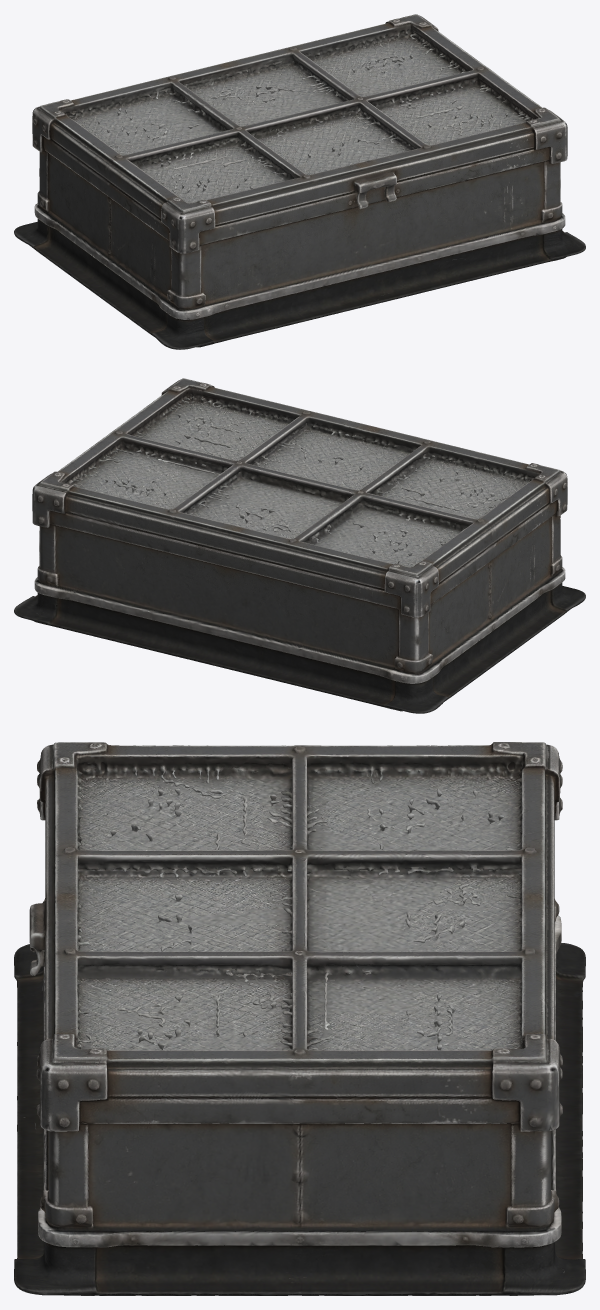
File: industrial_rooftop_skylight.glb
3 renders of one model, top to bottom at view 1: azimuth 30°, elevation 25°; view 2: azimuth 150°, elevation 25°; view 3: azimuth 270°, elevation 25°, orthographic. The views are drawn at different scales.
Bounding box in the file's own units: 1.9 × 0.5705 × 1.31.
1 material, 1 textured.
